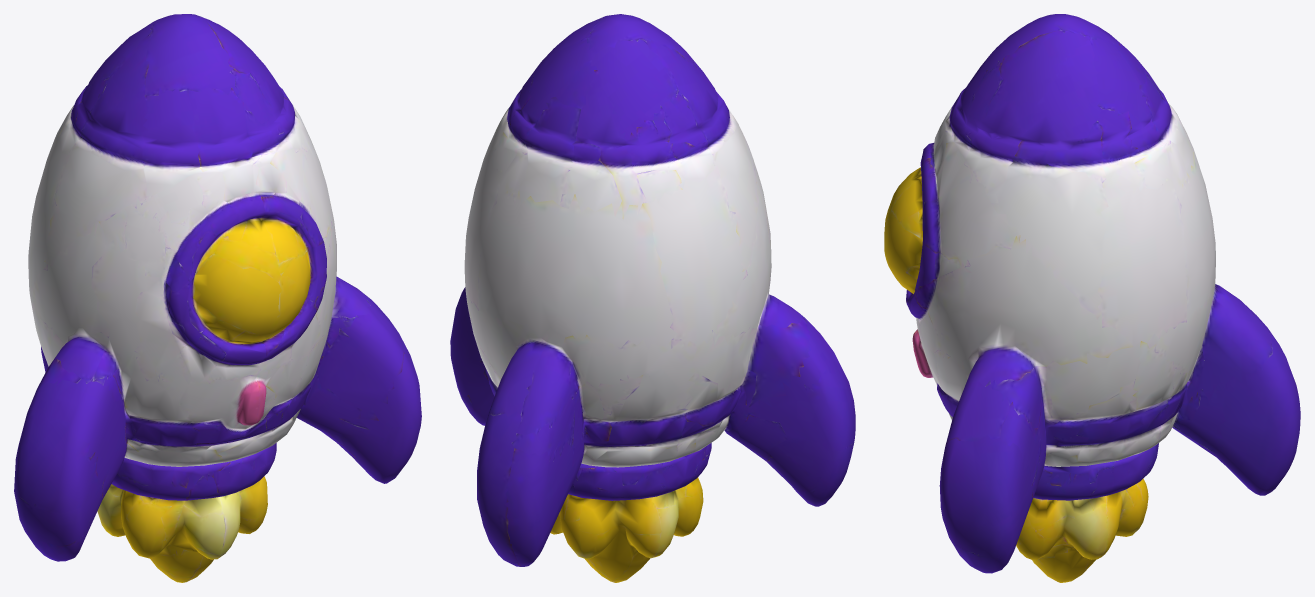
The model's file is roket.glb.
3 renders of one model, left to right at view 1: azimuth 30°, elevation 25°; view 2: azimuth 150°, elevation 25°; view 3: azimuth 270°, elevation 25°, orthographic.
Size of the model in its own units: 1.4 by 1.9 by 1.27.
Materials: 1 (1 with a texture image).
